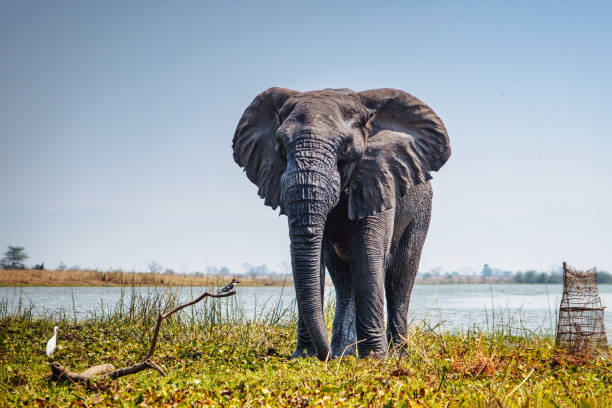africanelephant: (256, 79, 391, 303)
